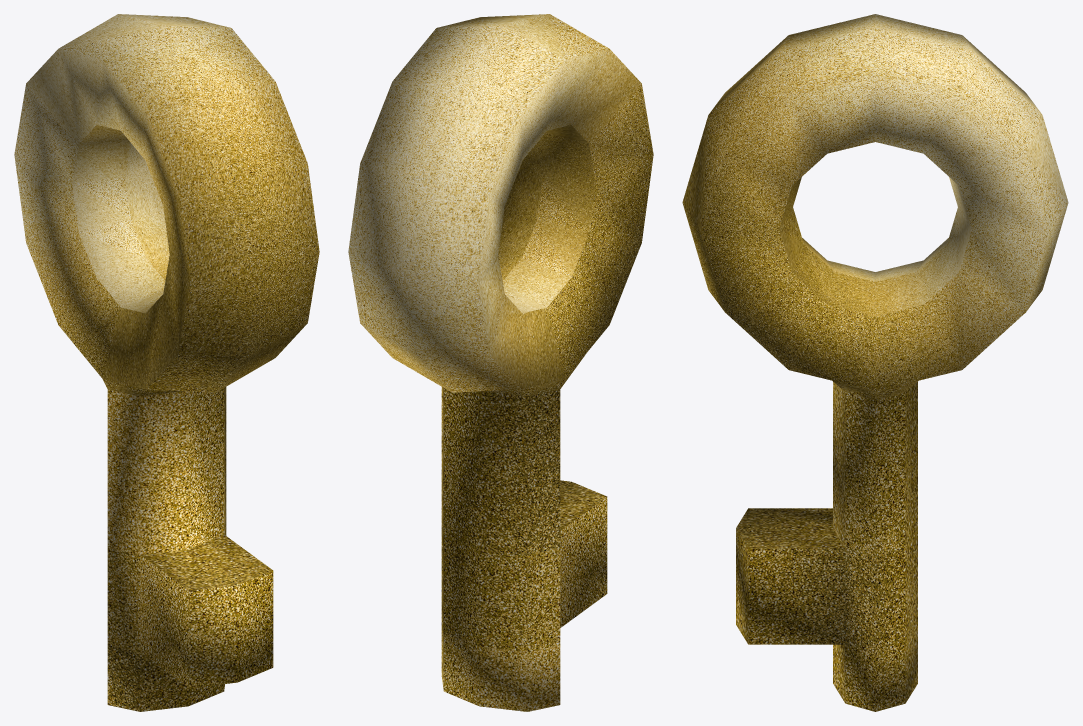
Rendered from Llave.fbx.
The picture shows the model from 3 angles, left to right: view 1: azimuth 30°, elevation 25°; view 2: azimuth 150°, elevation 25°; view 3: azimuth 270°, elevation 25°; orthographic projection.
Visible parts, largest first — view 1: Torus; view 2: Torus; view 3: Torus.
Part boxes in pixels (<box>): Torus: <box>14,14,319,711</box>; Torus: <box>348,14,653,711</box>; Torus: <box>682,14,1068,711</box>.
Bounding box in the file's own units: 95.38 × 469 × 250.
